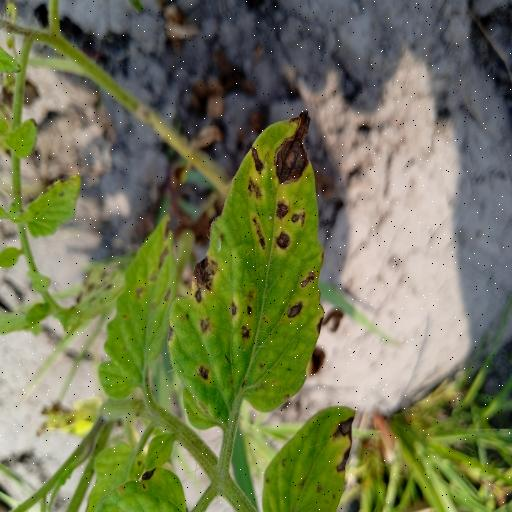Tomato_Brown_Spots: (166, 104, 328, 427), (101, 210, 182, 402), (260, 400, 361, 512)
